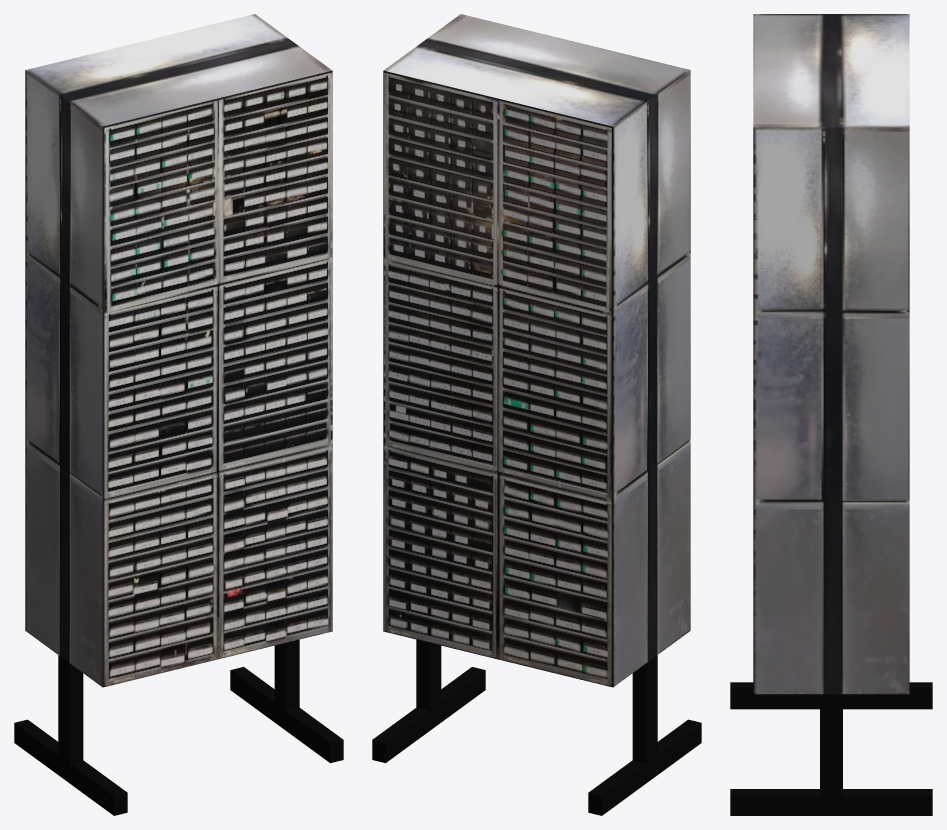
File: ComponentRack.fbx
The picture shows the model from 3 angles, left to right: view 1: azimuth 30°, elevation 25°; view 2: azimuth 150°, elevation 25°; view 3: azimuth 270°, elevation 25°; orthographic projection.
Visible parts, largest first — view 1: Cube.001; view 2: Cube.001; view 3: Cube.001.
Part boxes in pixels (bbox=[...]): Cube.001: bbox=[14, 14, 343, 815]; Cube.001: bbox=[372, 14, 701, 815]; Cube.001: bbox=[730, 14, 932, 815].
Size of the model in its own units: 0.6 by 1.7 by 0.4519.
